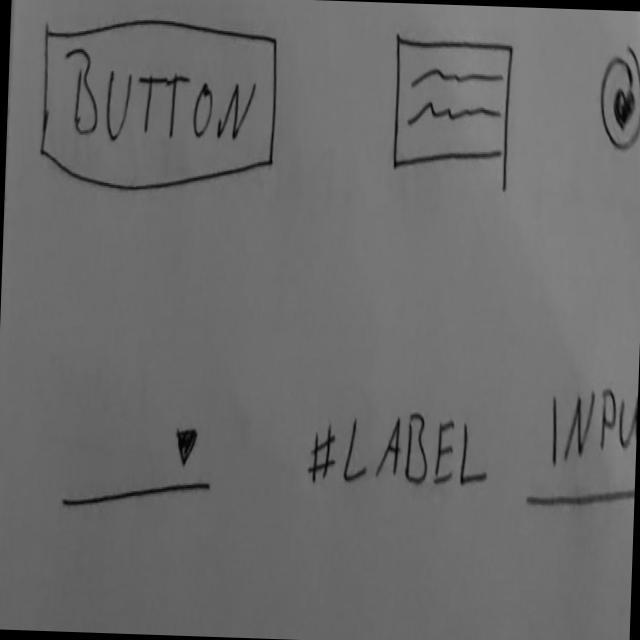button: (37, 10, 283, 199)
icon-button: (599, 43, 640, 156)
input: (524, 376, 639, 516)
label: (304, 405, 494, 501)
select: (61, 413, 217, 520)
textarea: (391, 28, 516, 180)
